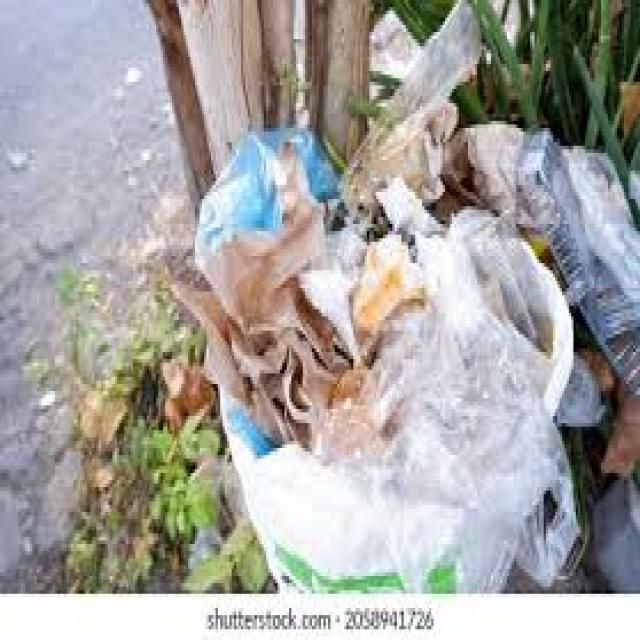paper: (195, 178, 349, 441)
plastic: (385, 369, 569, 586), (527, 142, 640, 355)
